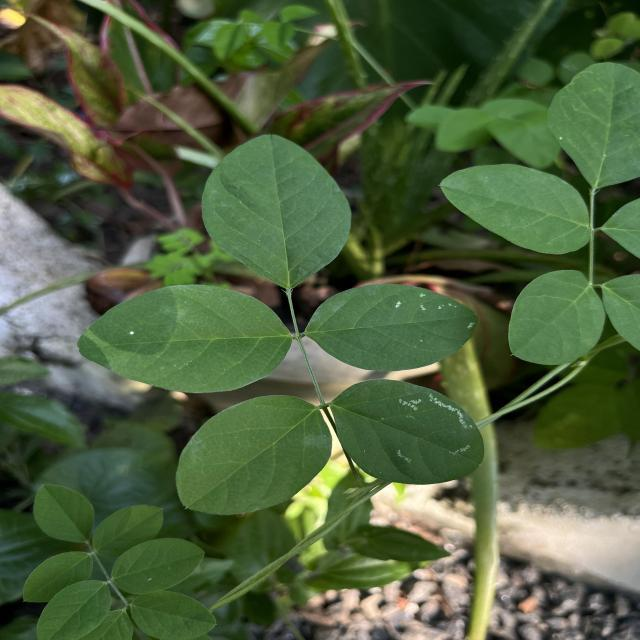Clitoria ternatea: (76, 283, 292, 394), (200, 132, 353, 286), (175, 394, 333, 516), (331, 378, 486, 486), (304, 282, 482, 373)
